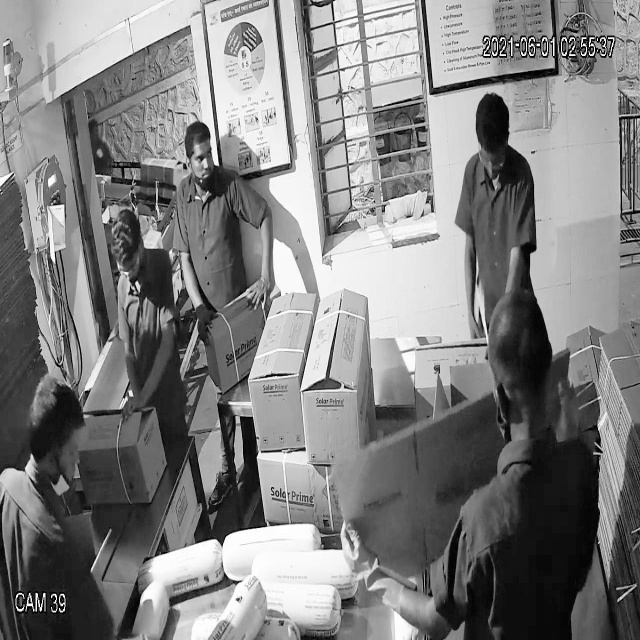Gafas: (474, 139, 510, 176), (113, 254, 145, 284)
